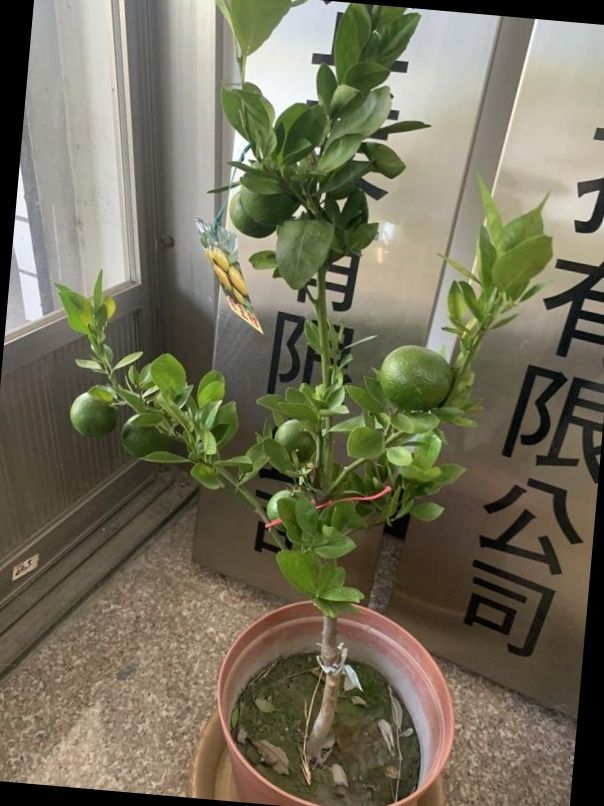Tangerine: (382, 341, 452, 411), (69, 391, 118, 438), (122, 415, 164, 454)
